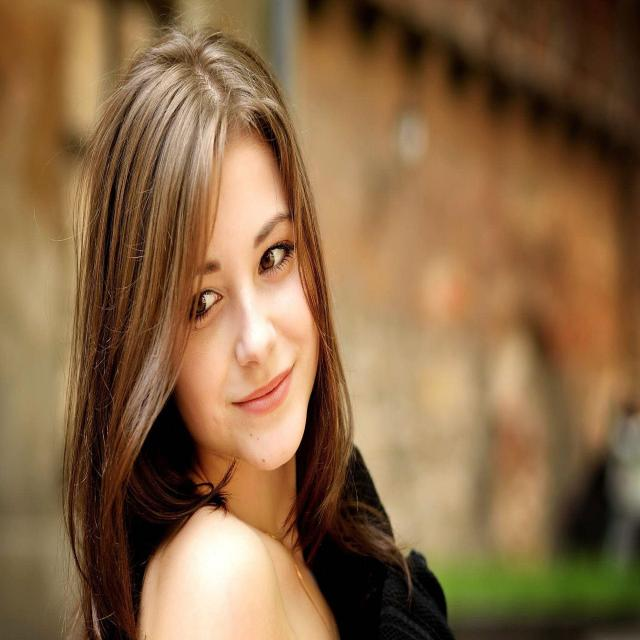human: (61, 34, 439, 638)
